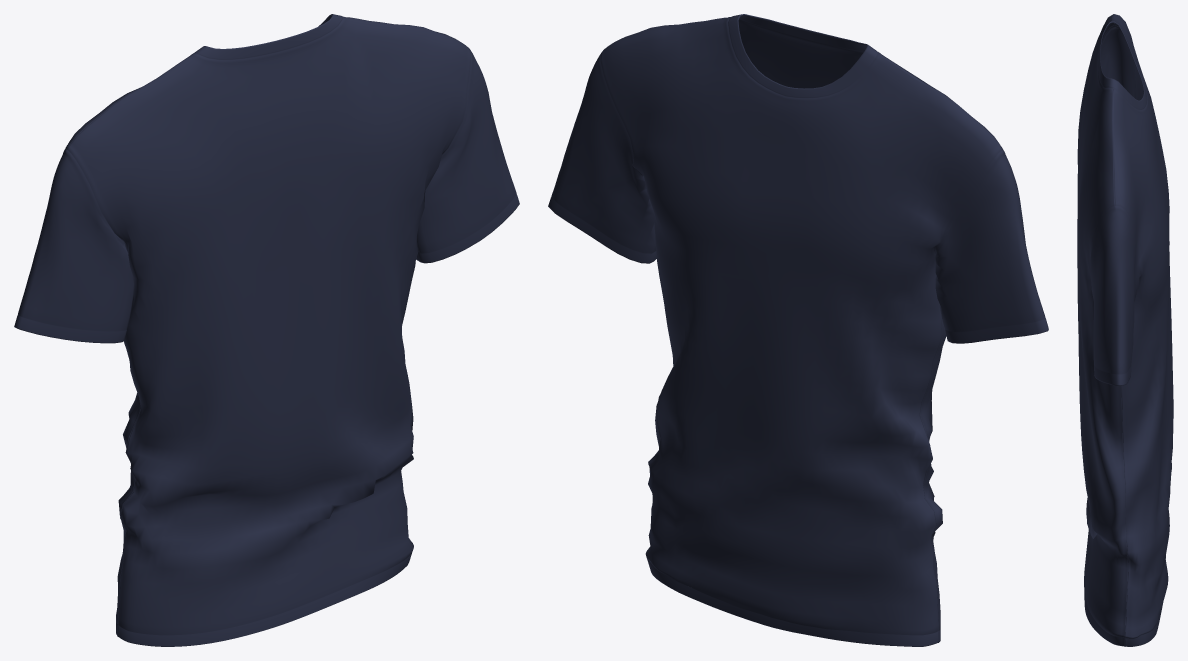
Rendered from T_Shirt_male063.fbx.
3 renders of one model, left to right at view 1: azimuth 30°, elevation 25°; view 2: azimuth 150°, elevation 25°; view 3: azimuth 270°, elevation 25°, orthographic. The views are drawn at different scales.
Parts seen in each view (by area): view 1: T_Shirt_male063; view 2: T_Shirt_male063; view 3: T_Shirt_male063.
Boxes of the visible parts, x1,y1,x2,y2 form: T_Shirt_male063: [14, 14, 519, 646]; T_Shirt_male063: [548, 14, 1048, 646]; T_Shirt_male063: [1077, 14, 1173, 646].
Bounding box in the file's own units: 19.1 × 21.2 × 3.39.
